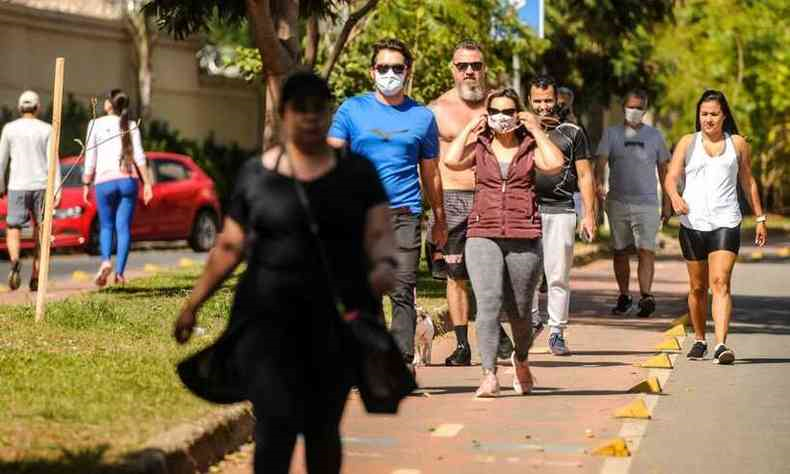with_mask: (368, 53, 413, 97), (483, 100, 523, 137)
without_mask: (281, 89, 333, 143), (451, 50, 484, 95), (698, 105, 728, 135), (530, 89, 559, 117)
